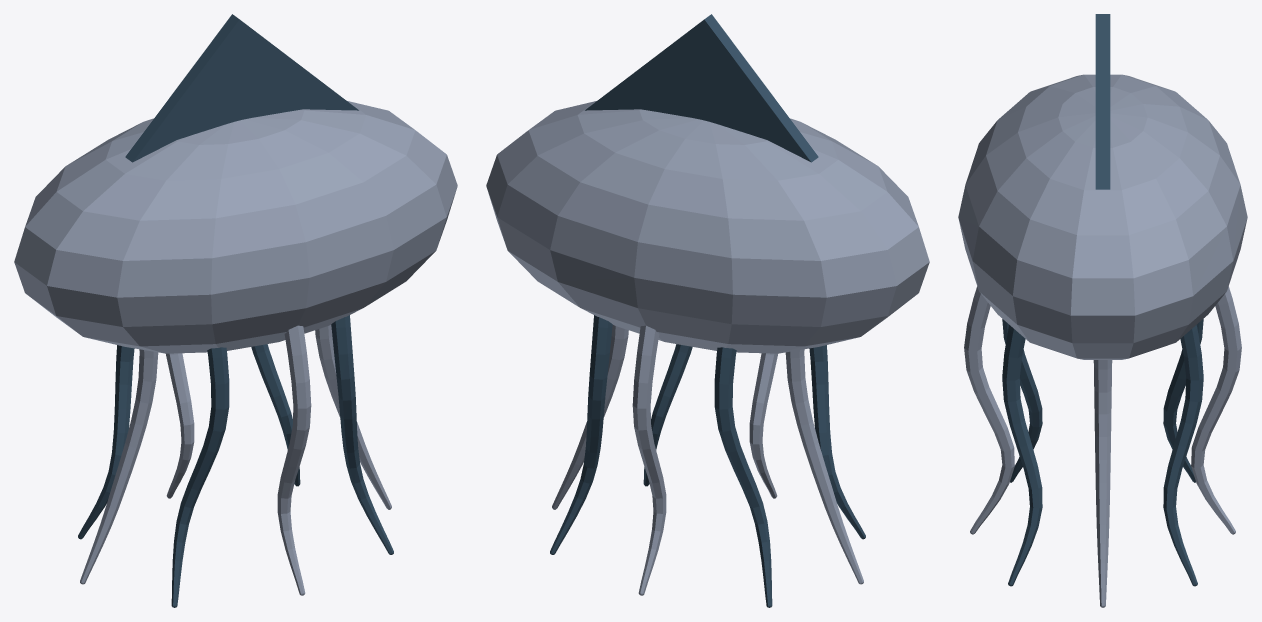
File: portuguese-man-o-war.dae
The picture shows the model from 3 angles, left to right: view 1: azimuth 30°, elevation 25°; view 2: azimuth 150°, elevation 25°; view 3: azimuth 270°, elevation 25°; orthographic projection.
Parts seen in each view (by area): view 1: part1-node, part0-node; view 2: part1-node, part0-node; view 3: part1-node, part0-node.
Boxes of the visible parts, x1,y1,x2,y2 form: part1-node: (14,101,457,595); part0-node: (78,14,393,607); part1-node: (486,101,929,595); part0-node: (550,14,865,607); part1-node: (958,74,1247,607); part0-node: (1002,14,1203,586).
Bounding box in the file's own units: 0.65 × 0.4041 × 0.8016.
